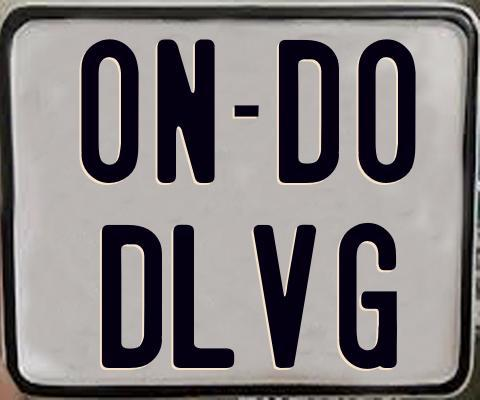0: (358, 38, 422, 183), (81, 39, 144, 186)
D: (278, 39, 339, 188), (100, 222, 162, 368)
G: (337, 222, 399, 372)
L: (171, 223, 236, 372)
N: (154, 36, 213, 184)
V: (250, 225, 313, 374)
